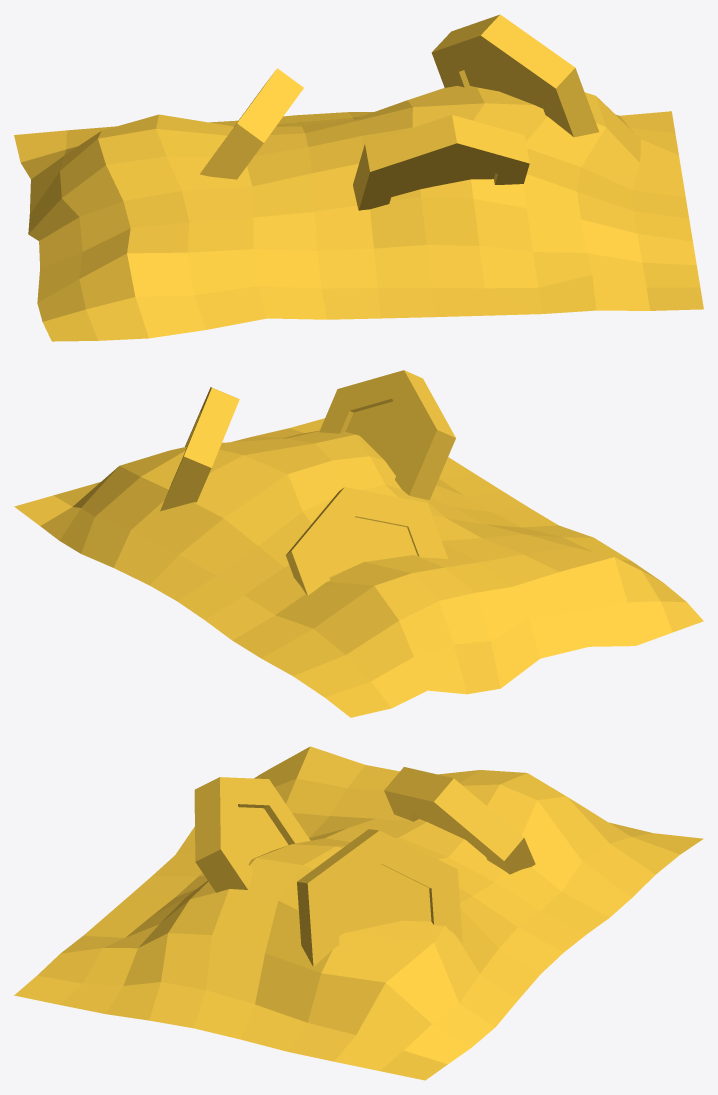
Rendered from n2_chests_gold_yellow_0_lev2.004.glb.
The picture shows the model from 3 angles, top to bottom: view 1: azimuth 30°, elevation 25°; view 2: azimuth 150°, elevation 25°; view 3: azimuth 270°, elevation 25°; orthographic projection. The views are drawn at different scales.
Visible parts, largest first — view 1: n2_chests_gold_yellow_0_lev2.004; view 2: n2_chests_gold_yellow_0_lev2.004; view 3: n2_chests_gold_yellow_0_lev2.004.
Part boxes in pixels (x1=…): n2_chests_gold_yellow_0_lev2.004: x1=14, y1=14, x2=703, y2=341; n2_chests_gold_yellow_0_lev2.004: x1=14, y1=370, x2=703, y2=717; n2_chests_gold_yellow_0_lev2.004: x1=14, y1=746, x2=703, y2=1080.
Size of the model in its own units: 1.76 by 0.4698 by 1.56.
